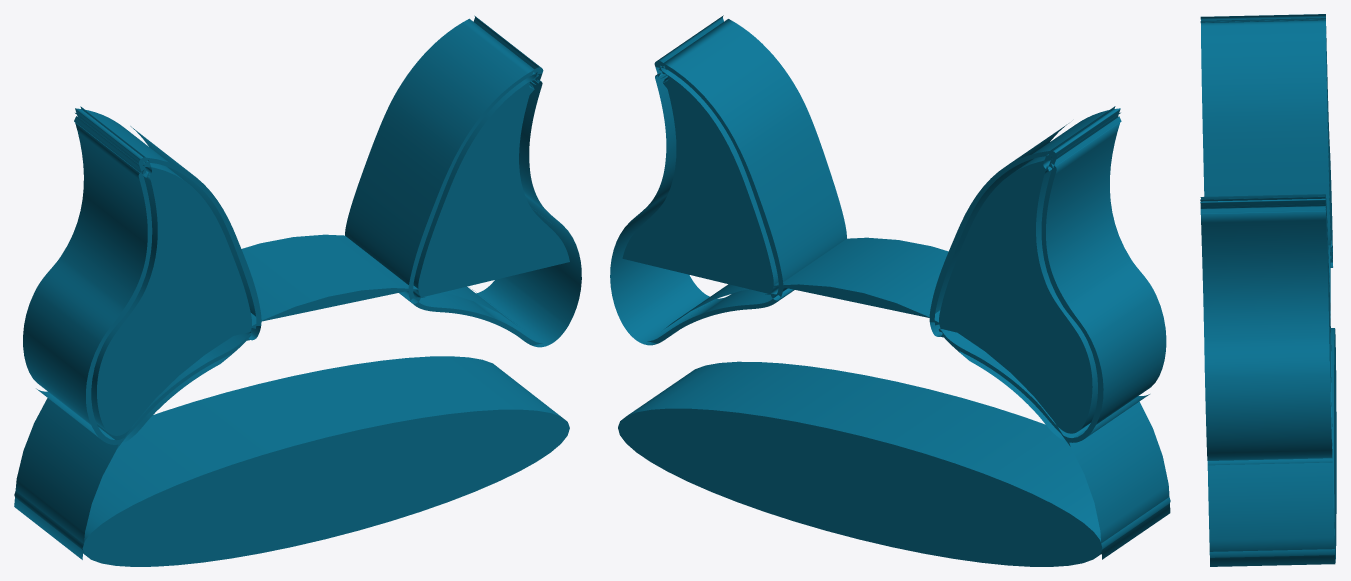
The model's file is casco.glb.
3 views of the same model, side by side, from view 1: azimuth 30°, elevation 25°; view 2: azimuth 150°, elevation 25°; view 3: azimuth 270°, elevation 25° (orthographic). The views are drawn at different scales.
Visible parts, largest first — view 1: Curve.004; view 2: Curve.004; view 3: Curve.004.
Part boxes in pixels (x1,y1,x2,y2): Curve.004: (14,15,581,566); Curve.004: (610,15,1170,566); Curve.004: (1200,14,1336,566).
Size of the model in its own units: 1.26 by 1.05 by 0.3275.
